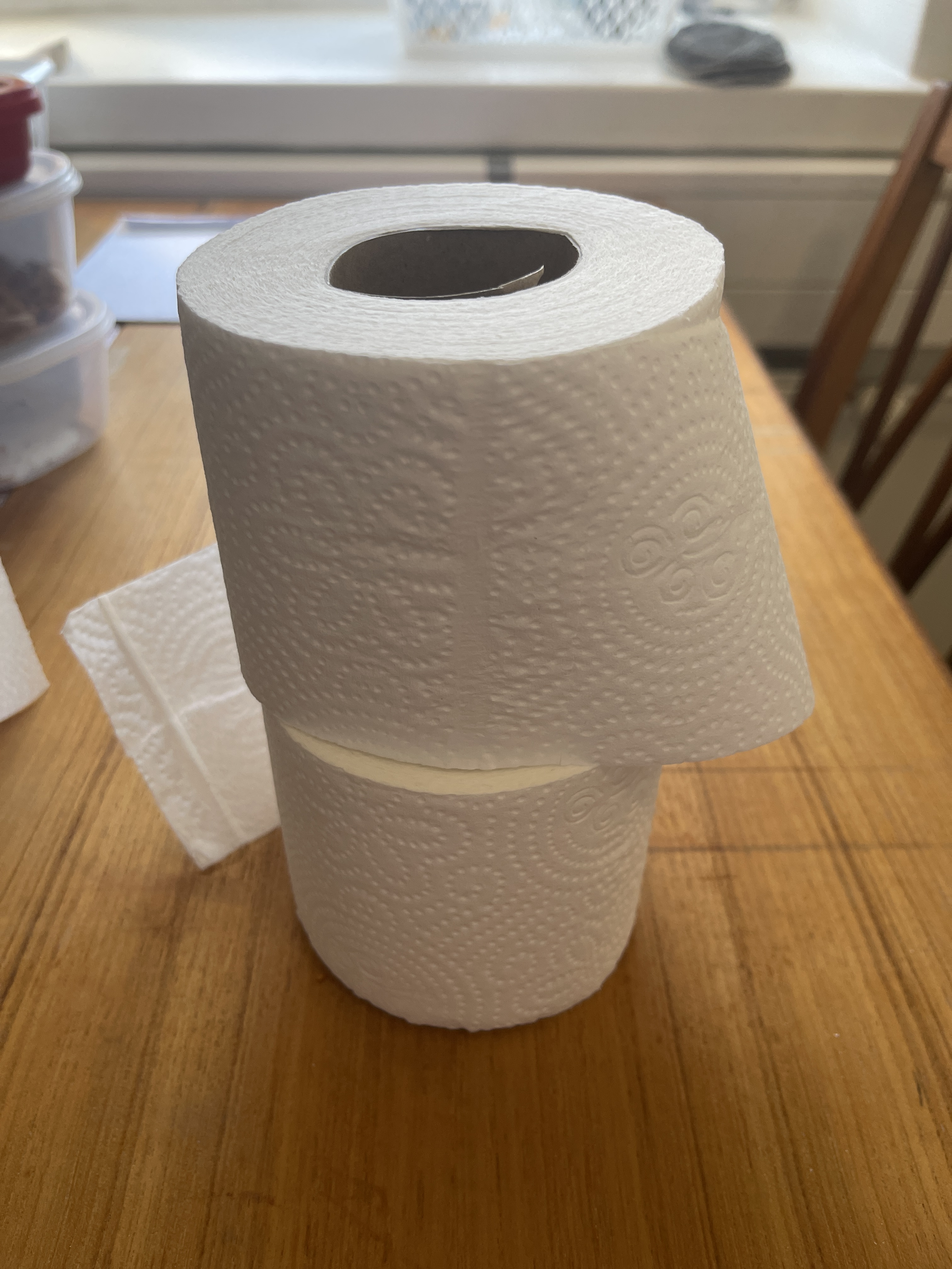paper: (170, 178, 818, 1040)
